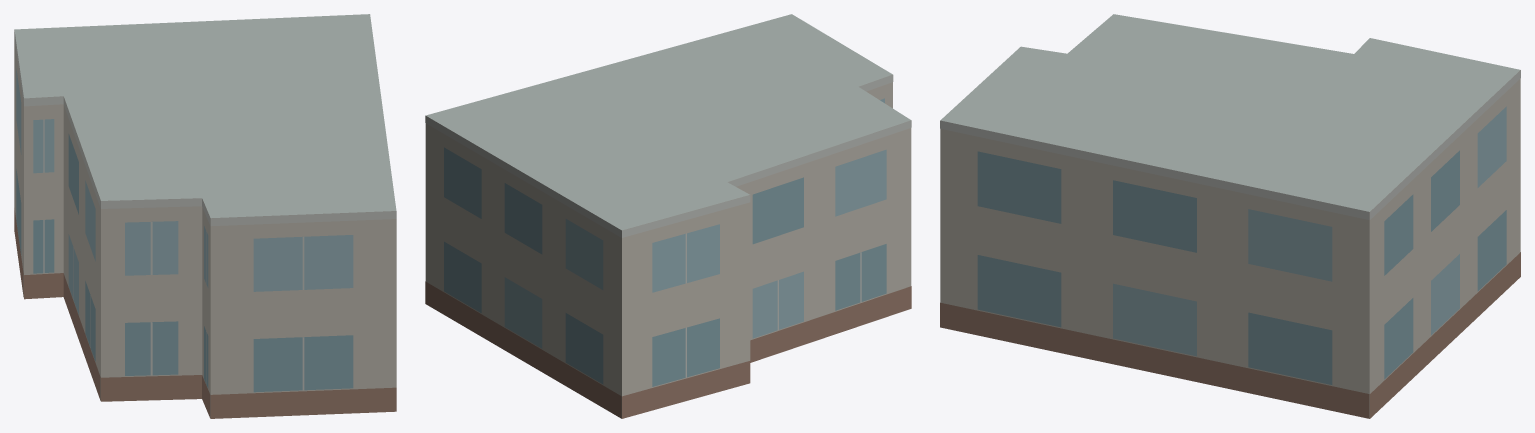
Rendered from survey-upis-32889260.glb.
3 views of the same model, side by side, from view 1: azimuth 30°, elevation 25°; view 2: azimuth 150°, elevation 25°; view 3: azimuth 270°, elevation 25° (orthographic). The views are drawn at different scales.
Parts seen in each view (by area): view 1: survey-upis-32889260.tmp; view 2: survey-upis-32889260.tmp; view 3: survey-upis-32889260.tmp.
Part boxes in pixels (box(x1,y1,x2,y2)): survey-upis-32889260.tmp: box(14, 14, 396, 418); survey-upis-32889260.tmp: box(425, 14, 911, 418); survey-upis-32889260.tmp: box(940, 14, 1520, 418).
Bounding box in the file's own units: 12.52 × 6.1 × 15.52.
